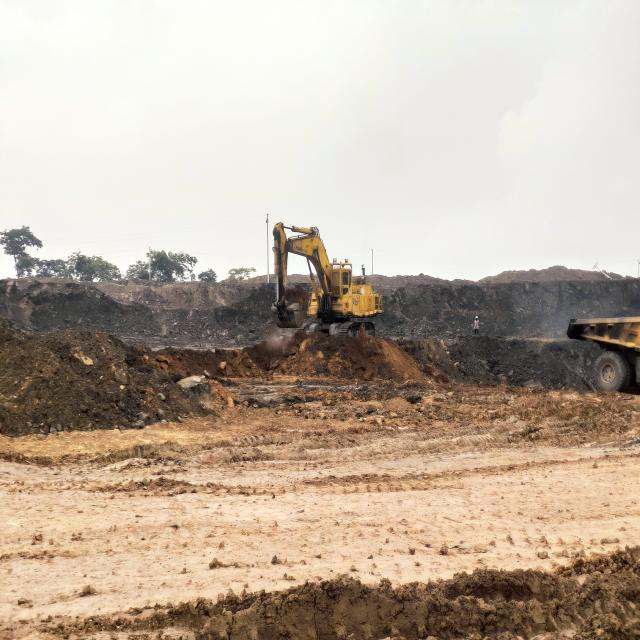dump_truck: (564, 314, 640, 395)
excavator: (271, 225, 385, 337)
